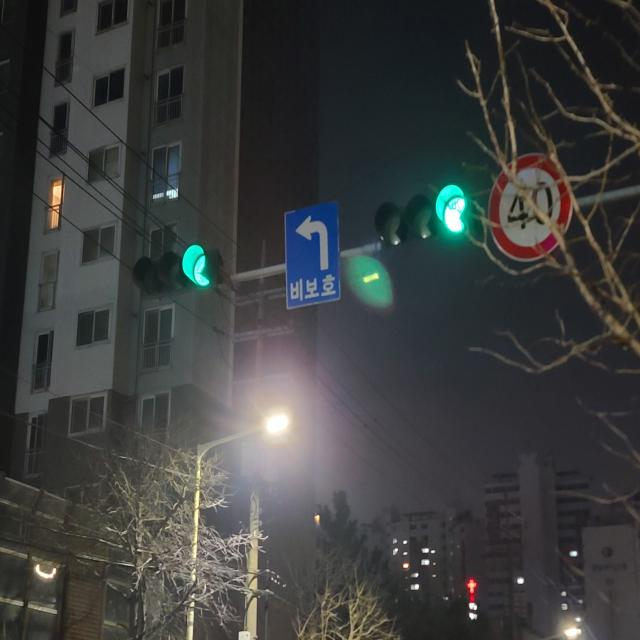Green Light: (429, 177, 480, 241), (178, 235, 221, 295)
